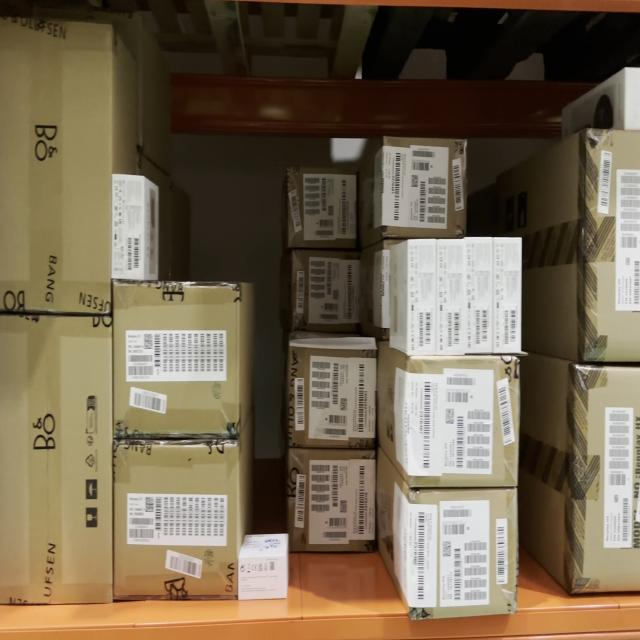box: (113, 286, 238, 438), (114, 445, 238, 596), (410, 359, 518, 485), (411, 489, 516, 612), (291, 343, 376, 448), (290, 452, 376, 548), (385, 139, 466, 234), (289, 170, 357, 248), (294, 254, 362, 328), (112, 177, 144, 279), (408, 240, 436, 351), (494, 238, 521, 350), (437, 241, 464, 353), (467, 239, 492, 354), (239, 558, 286, 598)
